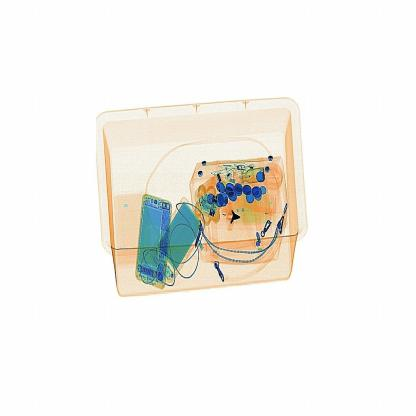gun: (220, 202, 250, 242)
